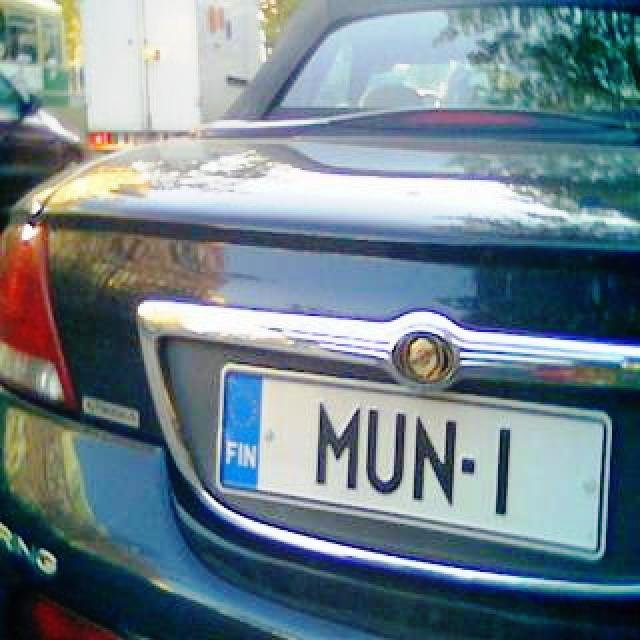license_plate: (205, 353, 627, 571)
